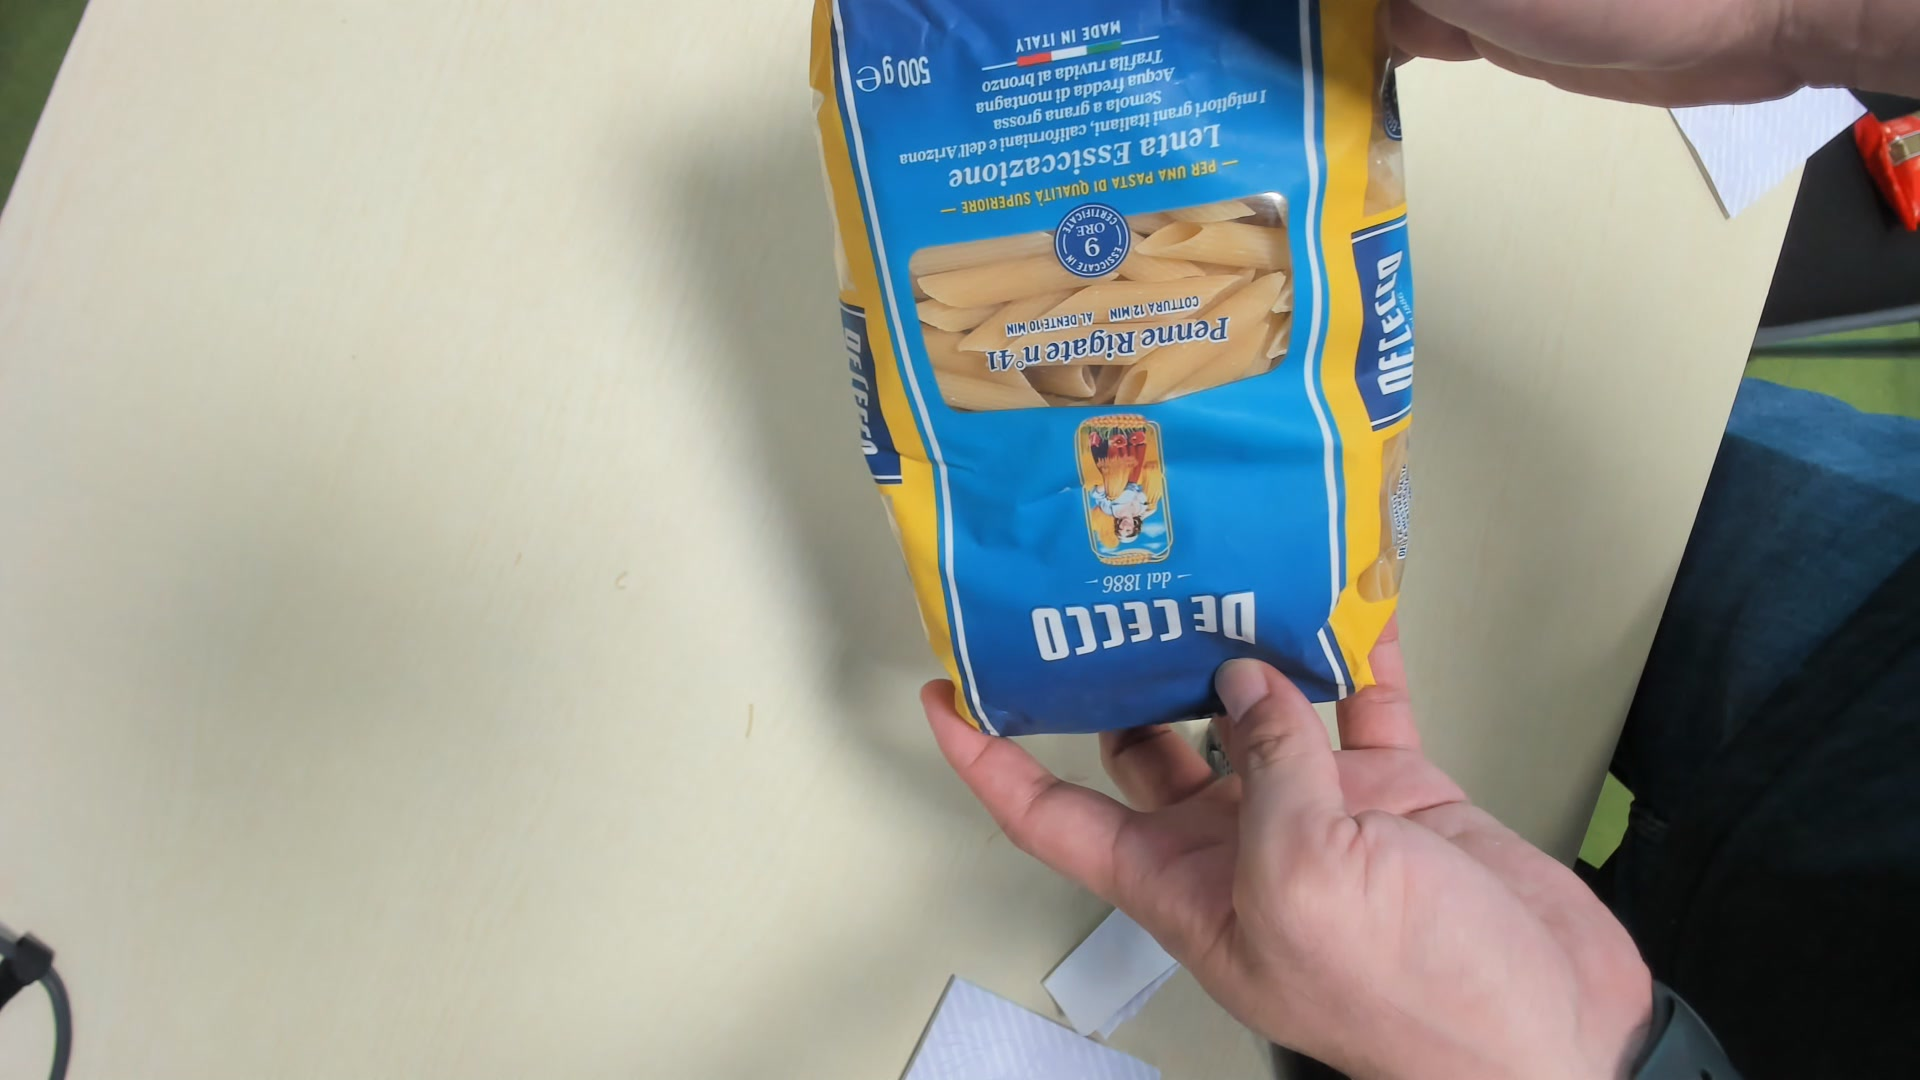Pasta_500-599g_NonHalal_NonHealthy: (810, 3, 1422, 738)
